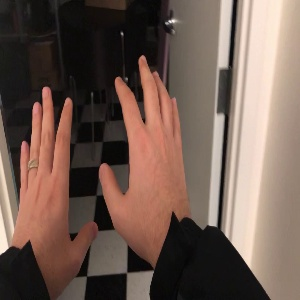hand: (99, 56, 189, 221), (17, 88, 98, 259)
